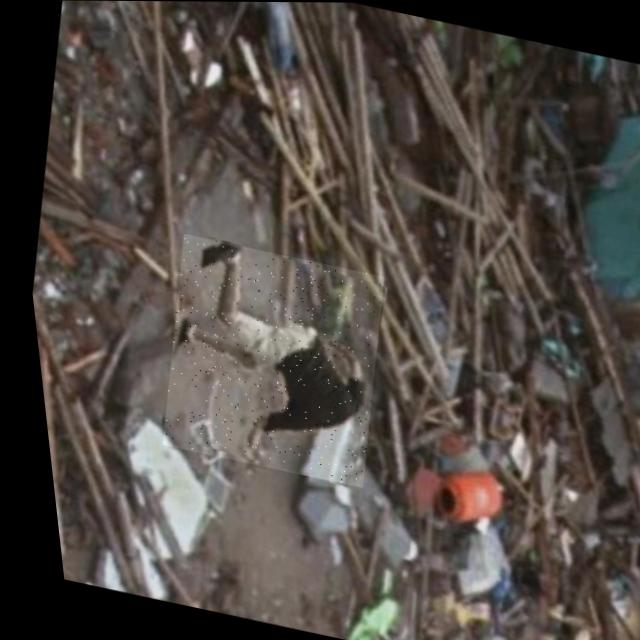Person in Rubble: (132, 233, 395, 487)
